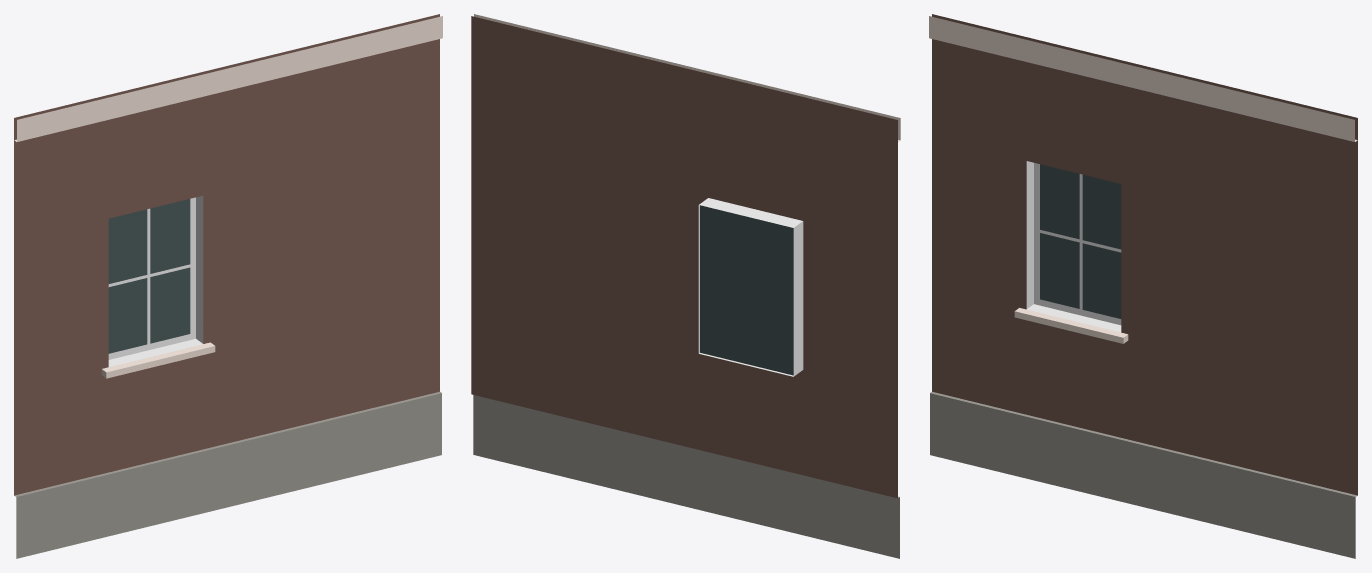
3 renders of one model, left to right at view 1: azimuth 30°, elevation 25°; view 2: azimuth 150°, elevation 25°; view 3: azimuth 330°, elevation 25°, orthographic.
Visible parts, largest first — view 1: a2000s3/600/base-w4; view 2: a2000s3/600/base-w4; view 3: a2000s3/600/base-w4.
Boxes of the visible parts, bbox=[...] form: a2000s3/600/base-w4: bbox=[14, 14, 442, 558]; a2000s3/600/base-w4: bbox=[471, 14, 900, 558]; a2000s3/600/base-w4: bbox=[929, 14, 1357, 558].
Size of the model in its own units: 3.6 by 3.55 by 0.21.
